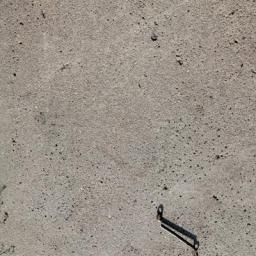FOD: (153, 204, 201, 256)
